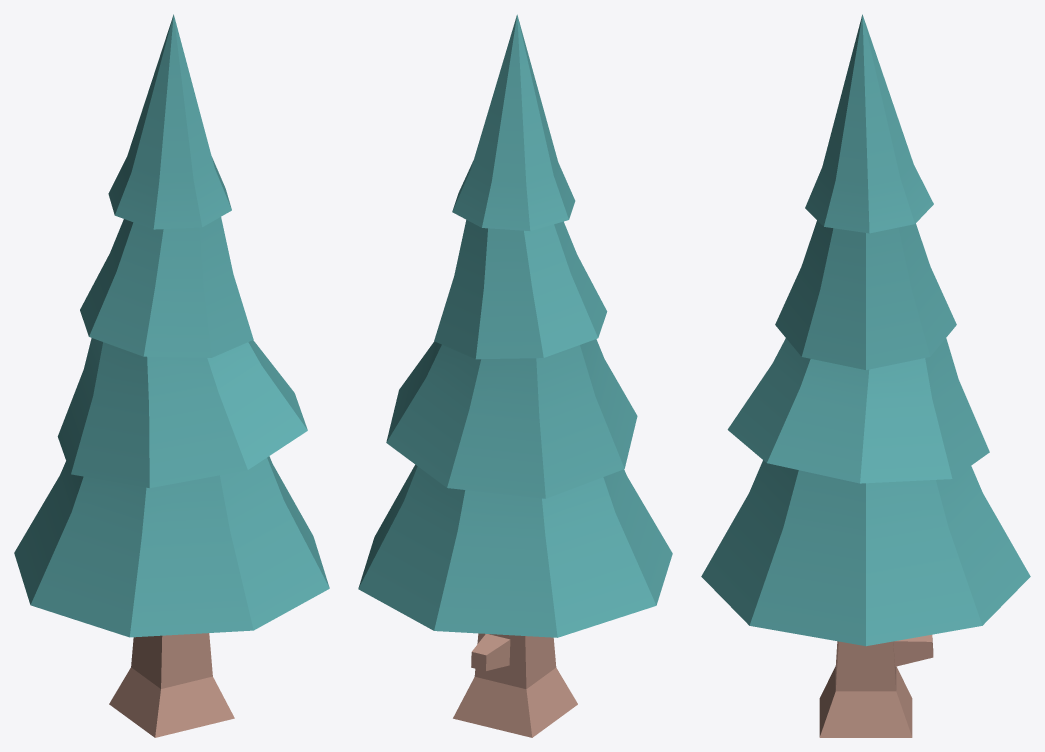
The model's file is tree_pineRoundF.glb.
3 views of the same model, side by side, from view 1: azimuth 30°, elevation 25°; view 2: azimuth 150°, elevation 25°; view 3: azimuth 270°, elevation 25° (orthographic).
Parts seen in each view (by area): view 1: tree_pineRoundF; view 2: tree_pineRoundF; view 3: tree_pineRoundF.
Part boxes in pixels (x1,y1,x2,y2): tree_pineRoundF: (14, 14, 329, 737); tree_pineRoundF: (358, 14, 672, 737); tree_pineRoundF: (701, 14, 1030, 737).
Size of the model in its own units: 0.532 by 1.25 by 0.532.
